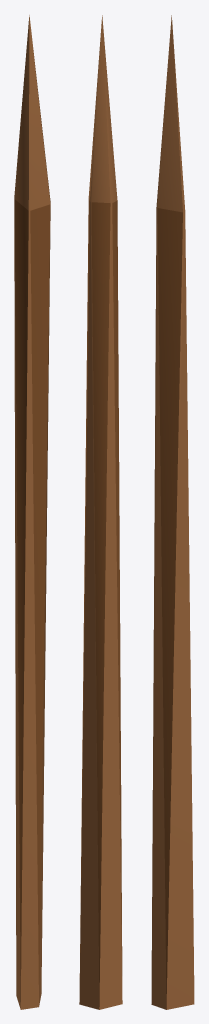
Rendered from Spear.fbx.
The picture shows the model from 3 angles, left to right: view 1: azimuth 30°, elevation 25°; view 2: azimuth 150°, elevation 25°; view 3: azimuth 330°, elevation 25°; orthographic projection.
Parts seen in each view (by area): view 1: pCube1; view 2: pCube1; view 3: pCube1.
Boxes of the visible parts, box(x1,y1,x2,y2) form: pCube1: box(14, 15, 50, 1009); pCube1: box(79, 15, 122, 1009); pCube1: box(151, 15, 194, 1009).
Size of the model in its own units: 0.0981 by 2.91 by 0.0878.
